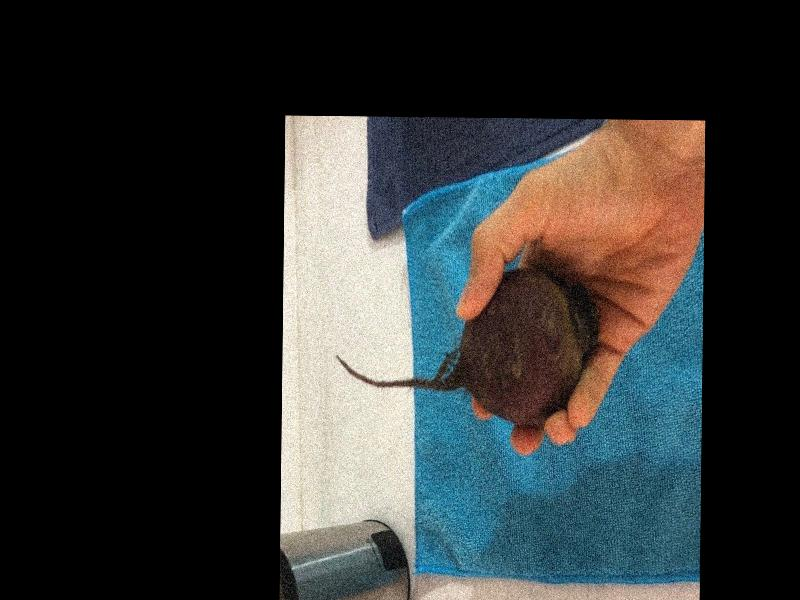Beet: (336, 266, 600, 427)
